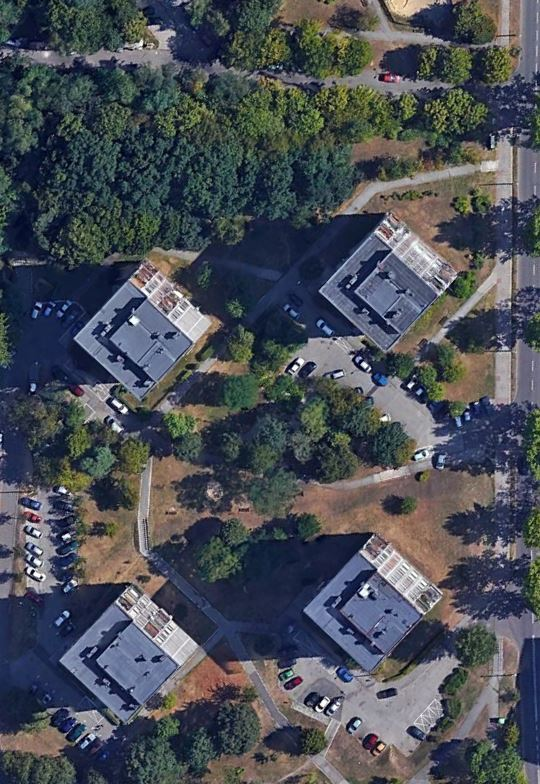block of flats: (67, 256, 215, 402), (311, 212, 459, 358), (296, 531, 444, 677), (59, 583, 207, 729)
